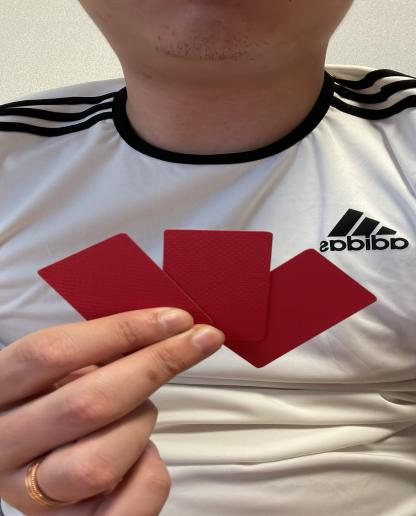ThreeHwatoo: (23, 211, 391, 392)
